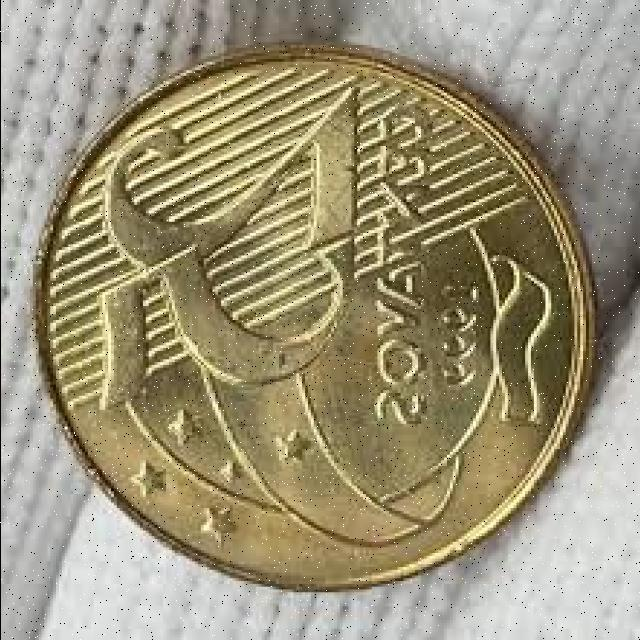25 cent: (34, 59, 588, 586)
